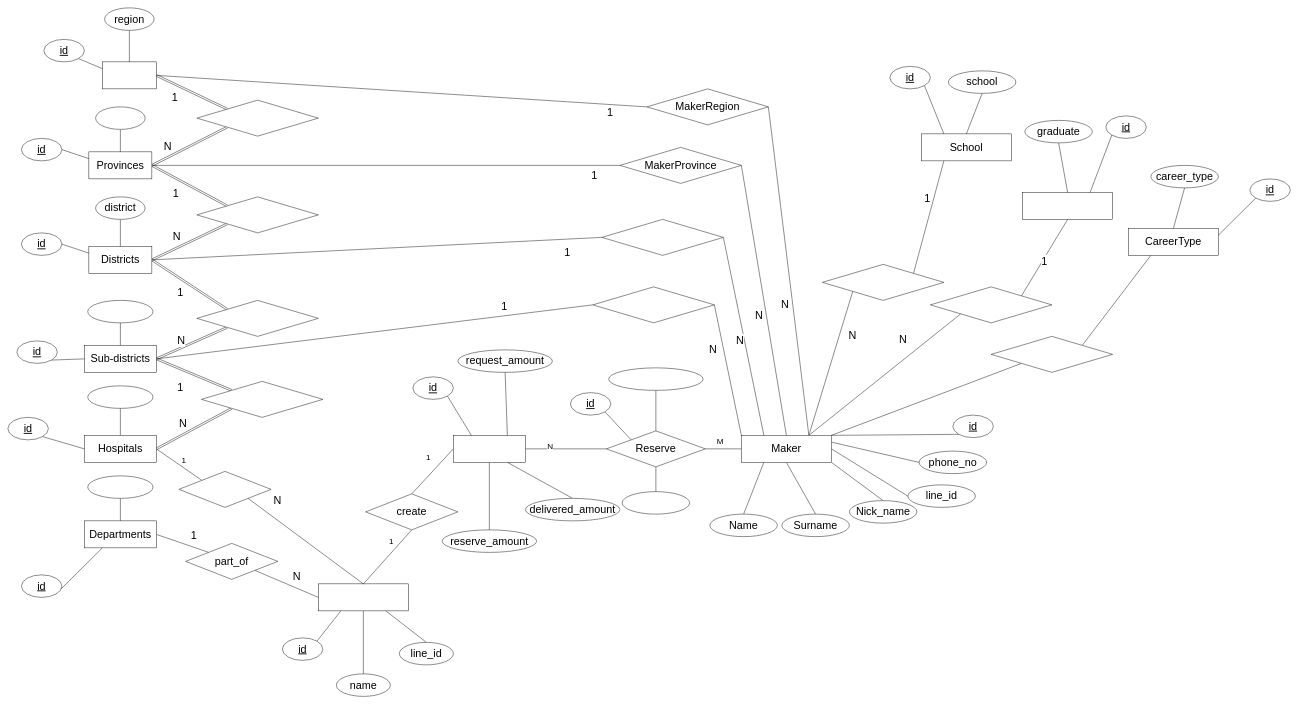
Some shapes in this 1298 by 704 pixel diagram are drawn without their labels. Here are the shapes that lost their labels. From the top down, the box of each, then its label:
(102, 61, 156, 89): Regions
(95, 106, 145, 129): province
(196, 100, 318, 136): RegionProvince
(196, 196, 318, 233): Province District
(1022, 192, 1113, 219): GraduateLevel
(601, 219, 723, 255): MakerDistrict
(822, 264, 944, 300): MakerSchool
(87, 300, 153, 323): subDistrict
(196, 300, 318, 336): DistrictSubDistrict
(592, 286, 714, 323): MakerSubDistrict
(930, 286, 1052, 323): MakerGraduate
(991, 336, 1113, 372): MakerCareer
(87, 385, 153, 408): hospital
(608, 367, 703, 390): amount
(201, 381, 323, 417): SubDisHospital
(453, 435, 525, 462): Request
(87, 475, 153, 498): department
(178, 471, 271, 507): lives_in
(622, 491, 690, 514): Status
(318, 583, 408, 611): MedicalStaff
